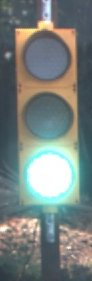Green: (11, 14, 88, 221)
